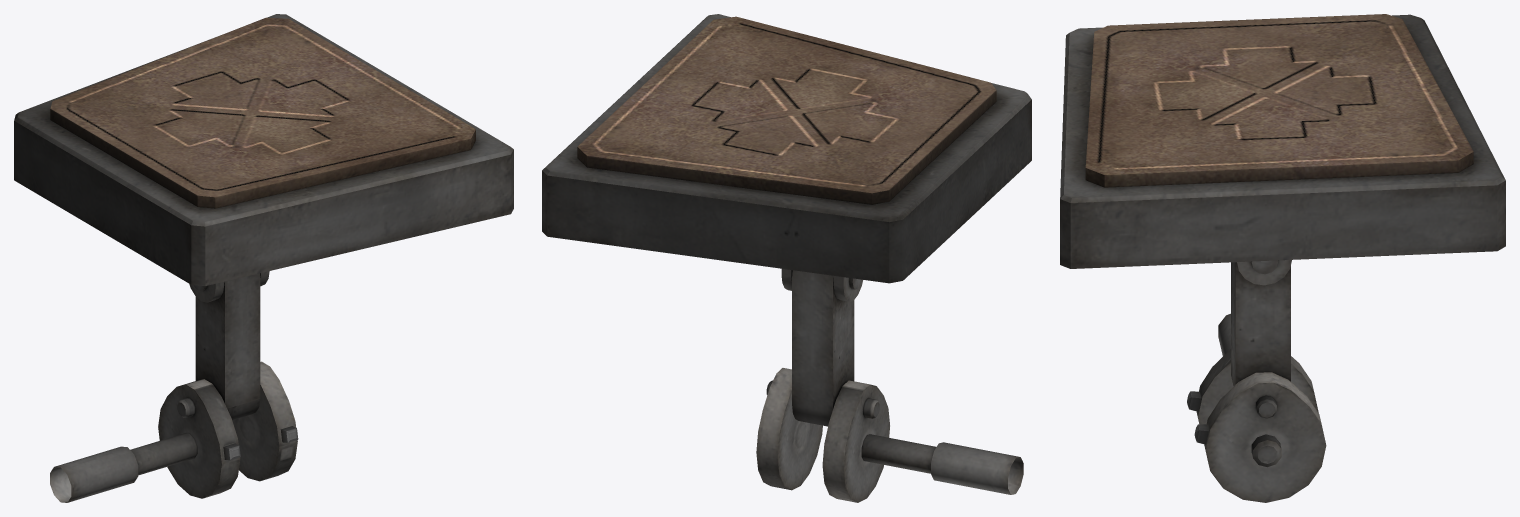
Rendered from SM_O_PressurePlate.FBX.
The picture shows the model from 3 angles, left to right: view 1: azimuth 30°, elevation 25°; view 2: azimuth 150°, elevation 25°; view 3: azimuth 270°, elevation 25°; orthographic projection. The views are drawn at different scales.
Visible parts, largest first — view 1: SM_; view 2: SM_; view 3: SM_.
Boxes of the visible parts, x1,y1,x2,y2 form: SM_: [14, 14, 513, 502]; SM_: [542, 14, 1031, 502]; SM_: [1060, 14, 1505, 502].
Bounding box in the file's own units: 56.15 × 51.42 × 51.69.
